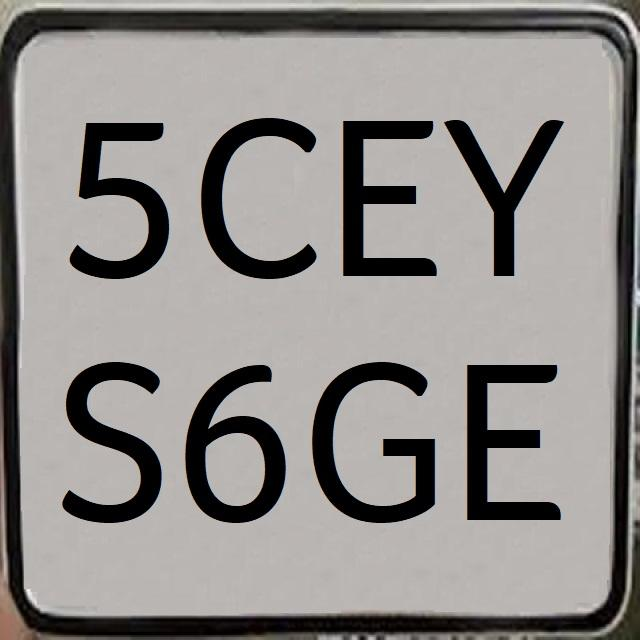5: (54, 103, 177, 302)
6: (182, 341, 285, 534)
C: (307, 342, 437, 528), (202, 99, 324, 279)
E: (460, 348, 569, 532), (342, 104, 443, 281)
S: (57, 340, 169, 531)
Y: (448, 100, 574, 288)
